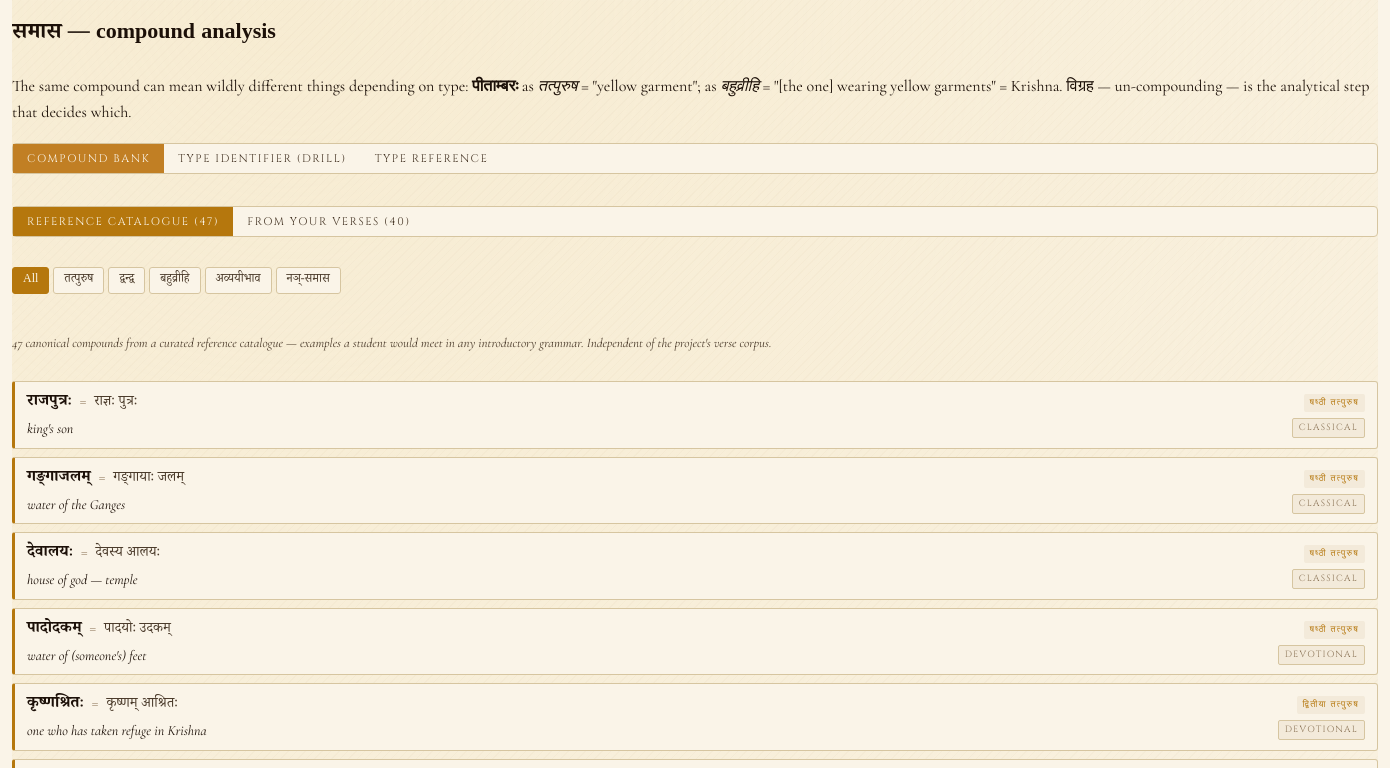
Samasa — Type Identifier drill › picking a wrong type marks .is-wrong on the picked option, .is-correct on the right one, and only increments total
The width and height of the screenshot is (1390, 768).
Click the button "Type identifier (drill)".
click(262, 159)  # box [164, 144, 361, 173]
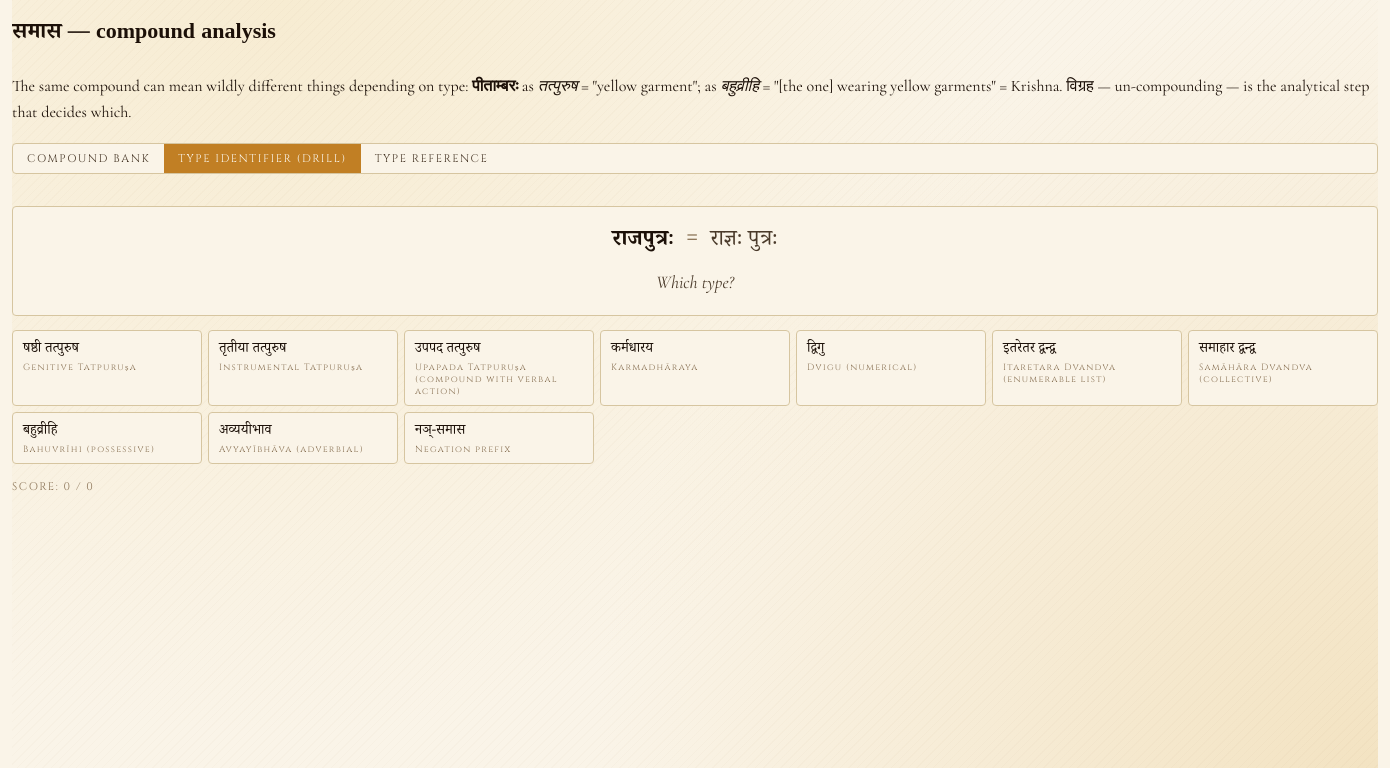
Check: the button with class "drill-option" that starts with "तृतीया तत्पुरुष" is shown
Click the button with class "drill-option" that starts with "तृतीया तत्पुरुष".
click(303, 368)  # box [208, 330, 398, 406]
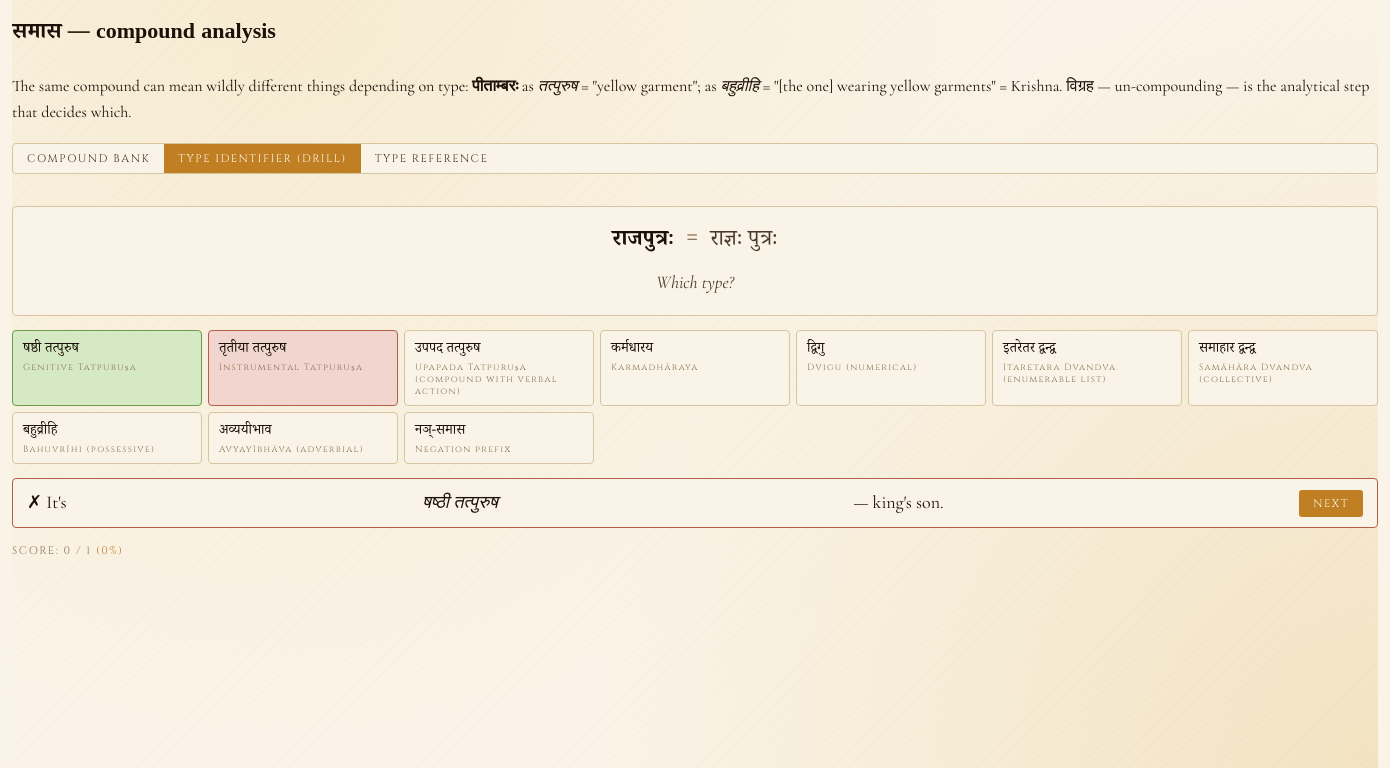
Check: the text "Score: 0 / 1 (0%)" is shown, box [12, 543, 124, 558]
Check: the text "✗ It's षष्ठी तत्पुरुष — king's son. Next" is shown, box [12, 478, 1378, 528]
